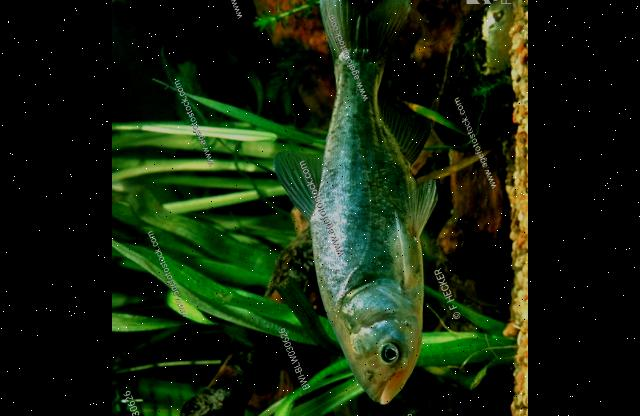Mulut: (368, 360, 416, 413)
Sirip Anal: (369, 92, 438, 162)
Sirip Dada: (386, 214, 424, 286)
Sirip Ekor: (311, 0, 420, 72)
Sirip Perut: (398, 170, 446, 226)
Sirip Punggung: (263, 146, 331, 219)
